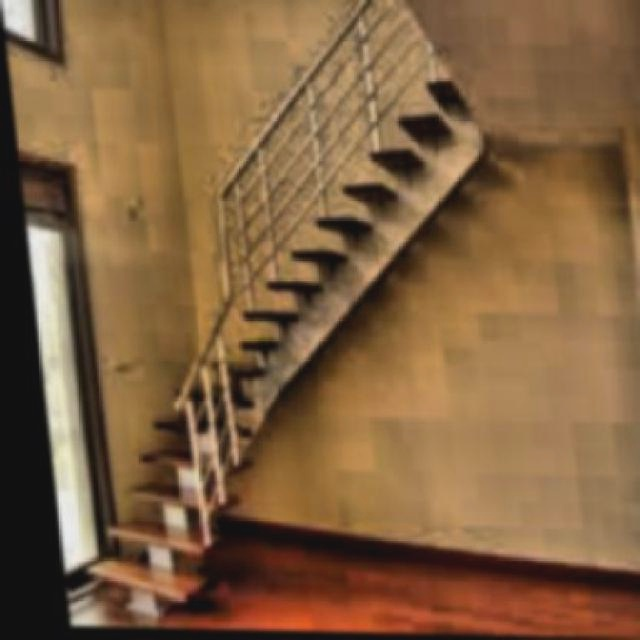stair: (60, 372, 275, 612)
